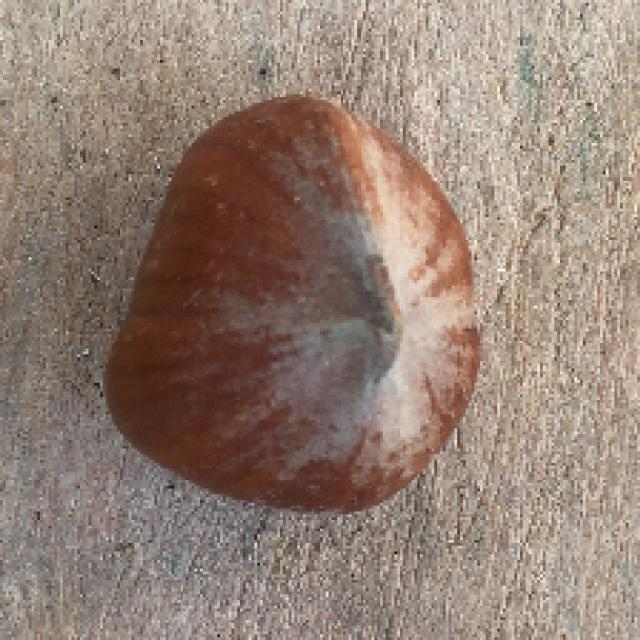qualityHazelnut: (106, 95, 488, 506)
